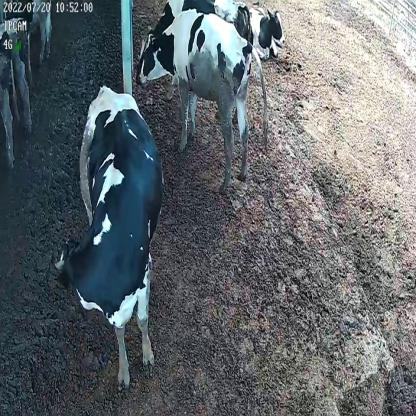cow: (54, 79, 164, 386), (138, 6, 270, 196), (247, 1, 285, 61)
